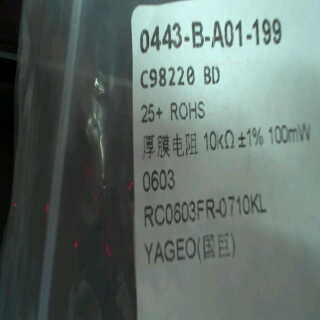10kR: (201, 125, 236, 153)
